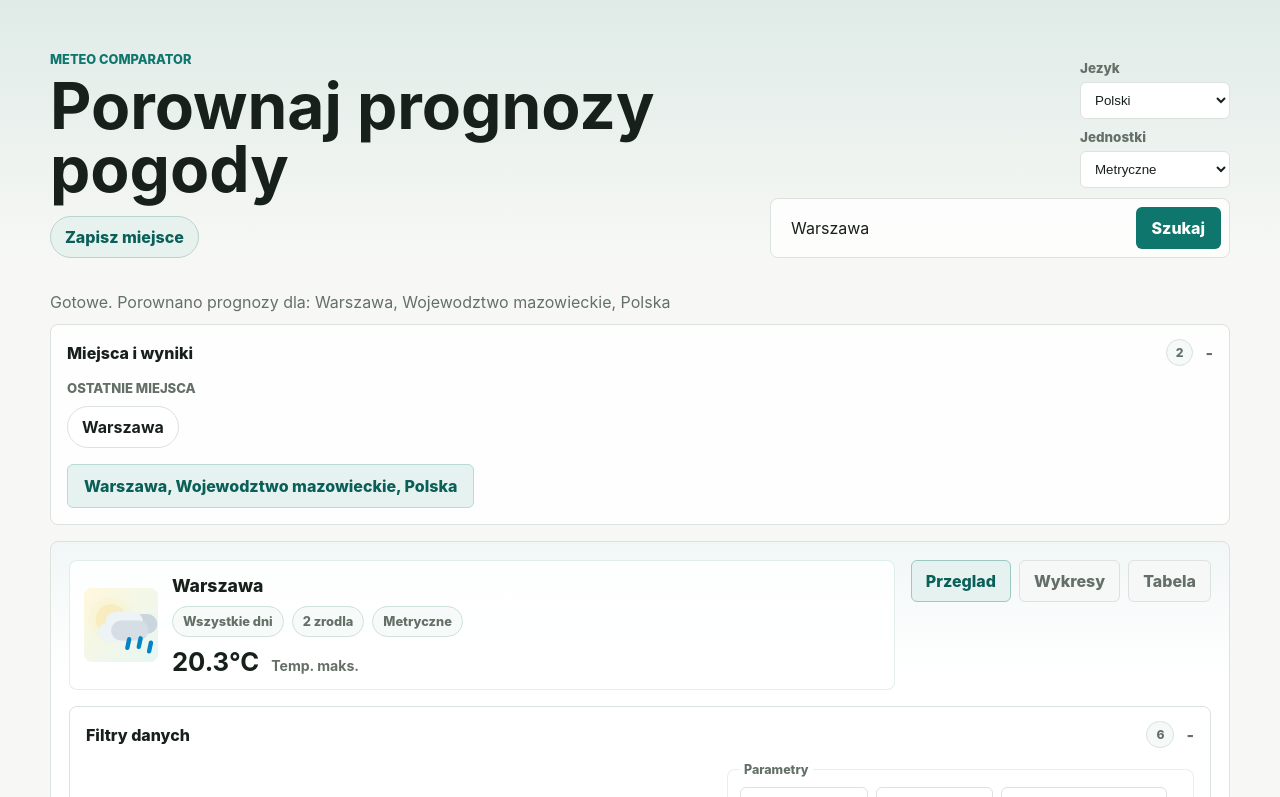
Test: App › shows a message when the location input is empty
The width and height of the screenshot is (1280, 797).
Clear the search field named "Lokalizacja": (953, 228) x1=779 y1=207 x2=1128 y2=249
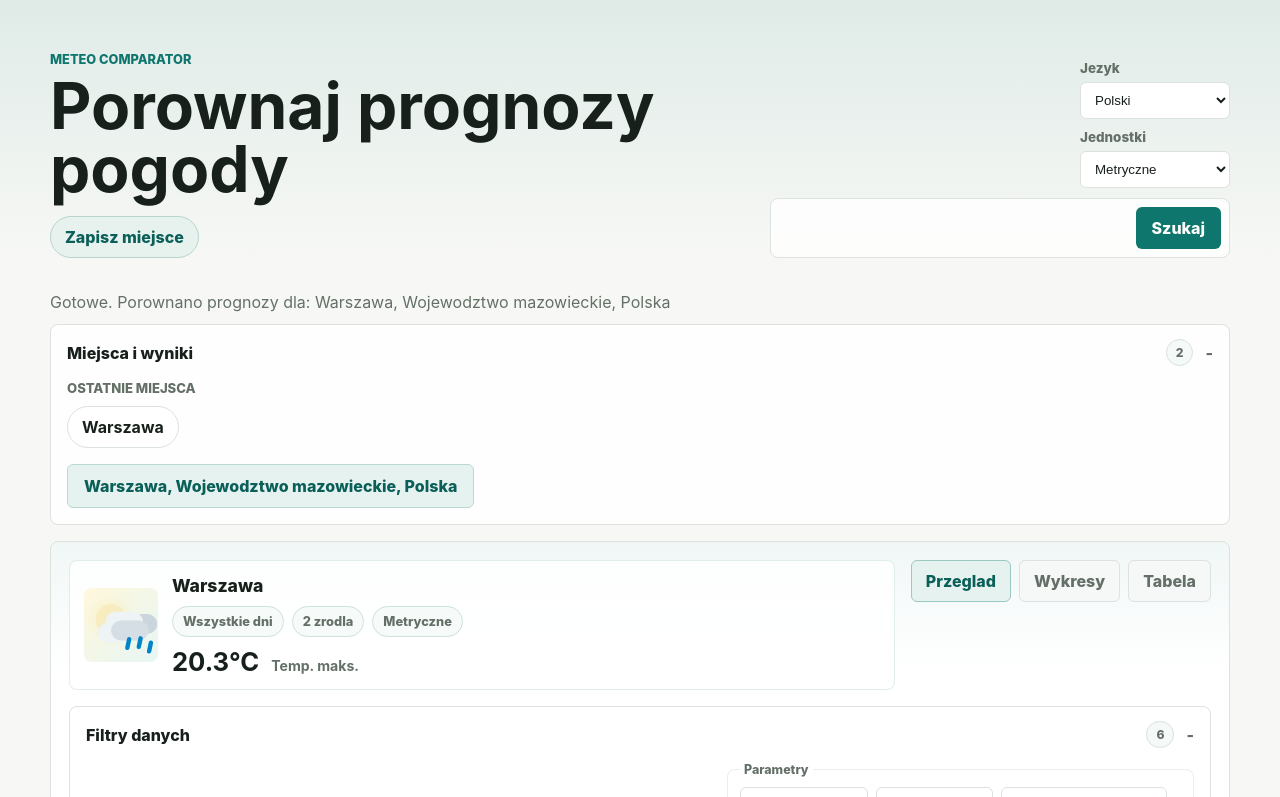
Click the button "Szukaj": (1178, 228) x1=1136 y1=207 x2=1221 y2=249
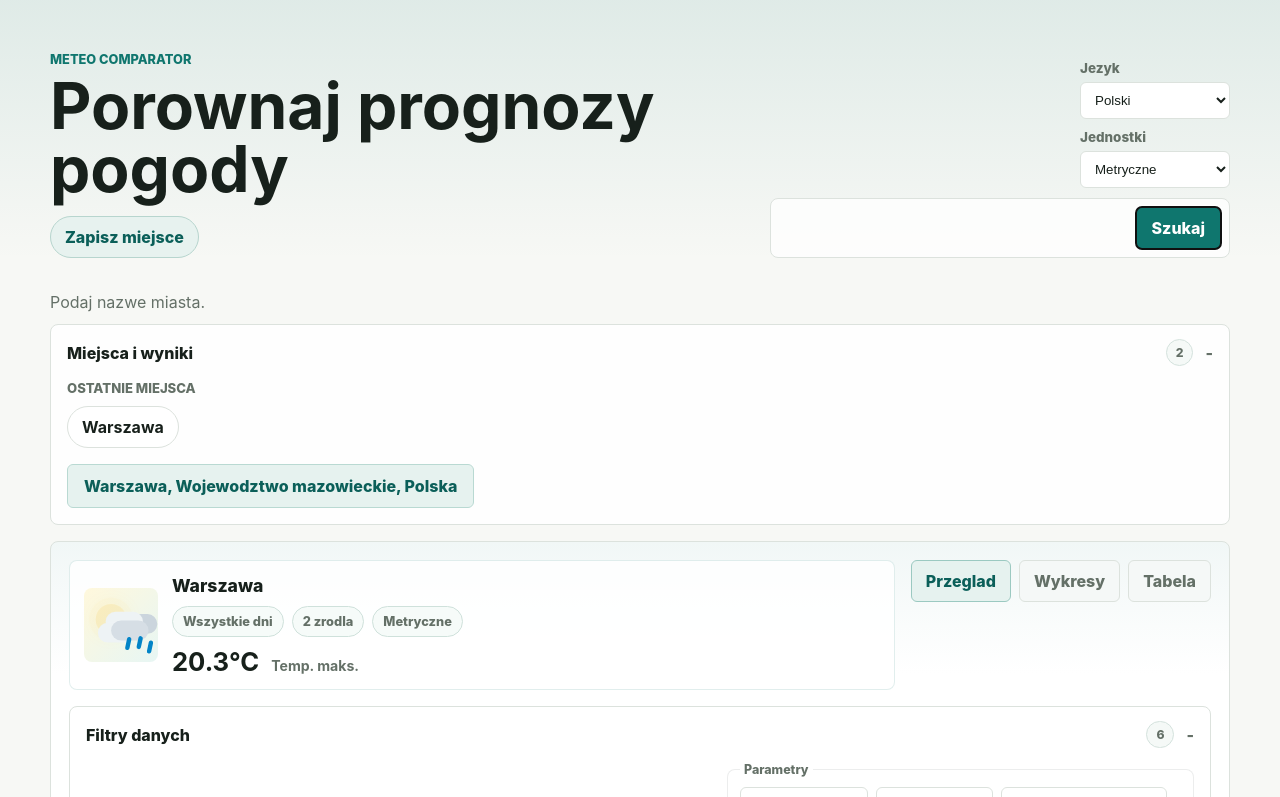
Result: the message reads "Podaj nazwe miasta." at x1=50 y1=292 x2=205 y2=312
